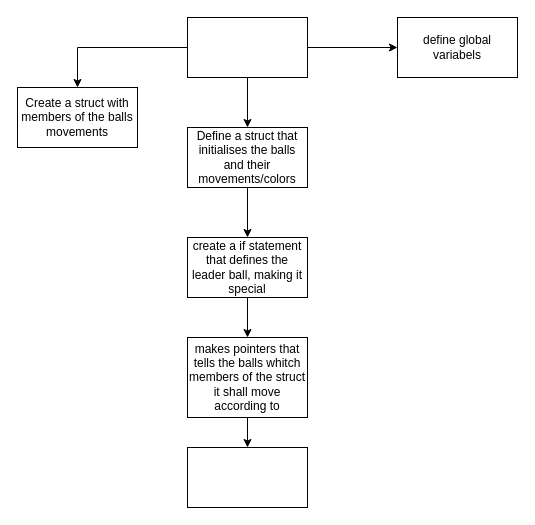
The diagram is 535 pixels wide and 525 high, and some of its shapes have lost their labels. Each missing label, with the centre of its shape:
"Define the paramaters for the filed and the colors of the balls" goes at (247,47).
"make the balls follow the leader" goes at (247,477).
